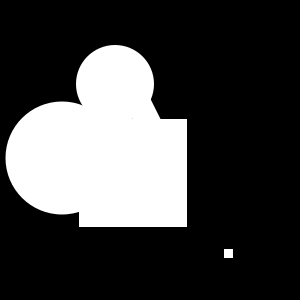circle: (79, 119, 187, 227), (224, 249, 233, 258)
rectangle: (6, 101, 118, 214), (76, 45, 154, 123)
triangle: (116, 91, 177, 152)
